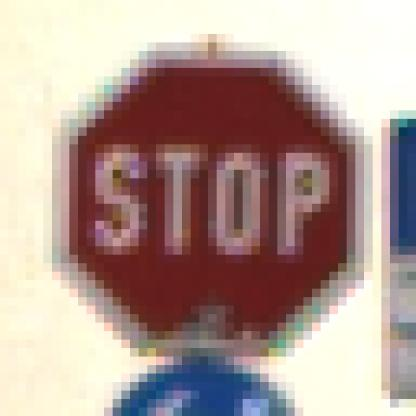Stop: (59, 51, 364, 355)
